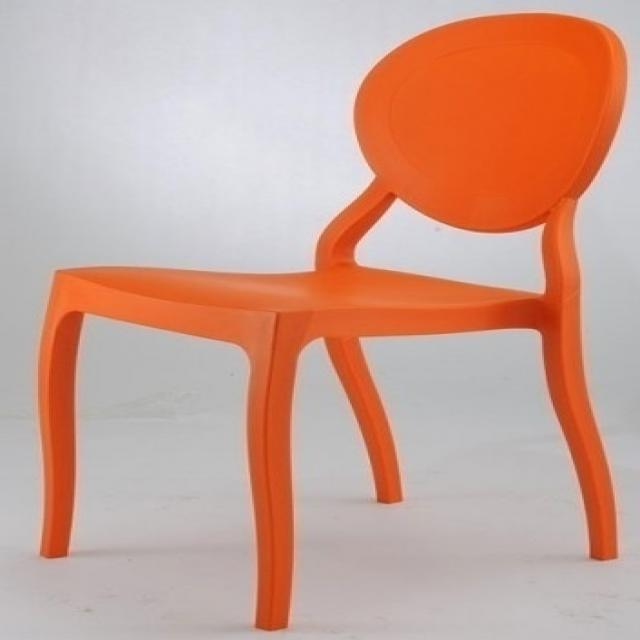Chair: (32, 9, 626, 635)
